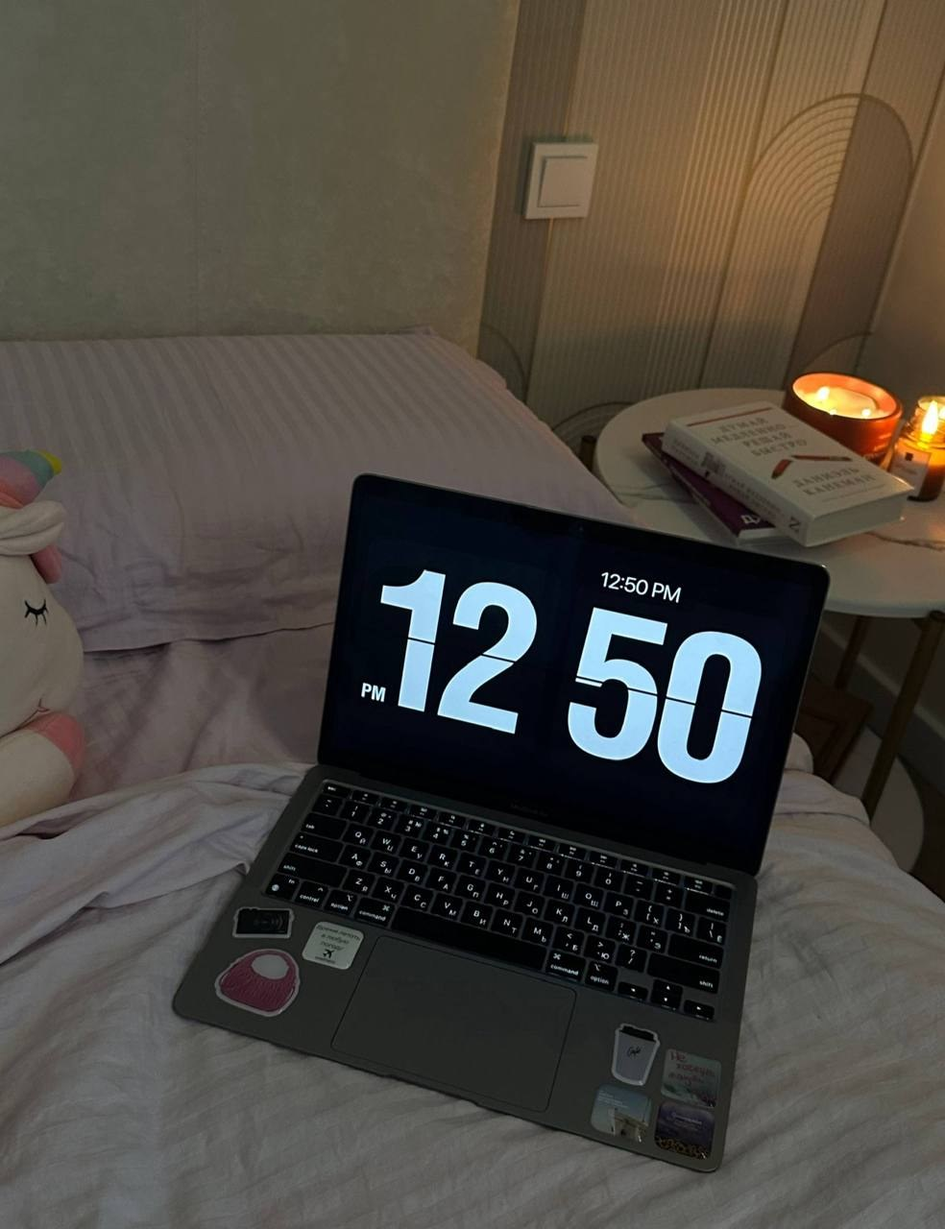laptop: (171, 472, 832, 1173)
